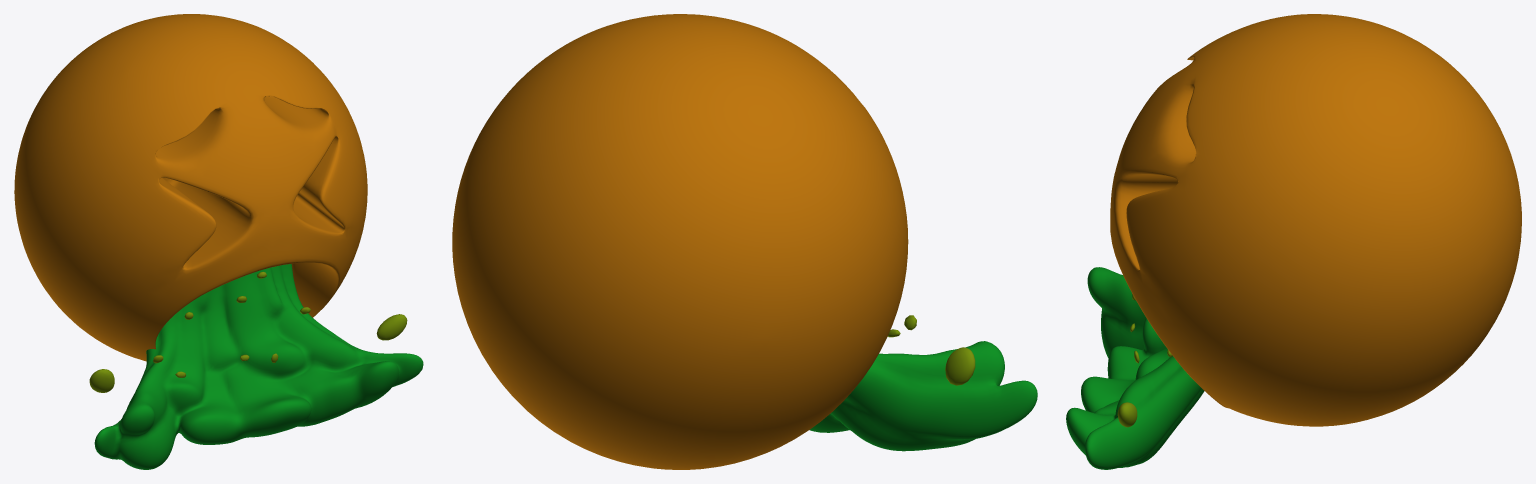
The model's file is vomiting FBX.FBX.
The picture shows the model from 3 angles, left to right: view 1: azimuth 30°, elevation 25°; view 2: azimuth 150°, elevation 25°; view 3: azimuth 270°, elevation 25°; orthographic projection. The views are drawn at different scales.
Parts seen in each view (by area): view 1: vomiting, Vomiting 3, Vomiting 2; view 2: vomiting, Vomiting 3, Vomiting 2; view 3: vomiting, Vomiting 3, Vomiting 2.
Part boxes in pixels (x1,y1,x2,y2): vomiting: [14, 14, 367, 361]; Vomiting 3: [94, 264, 423, 469]; Vomiting 2: [89, 271, 407, 392]; vomiting: [452, 14, 908, 469]; Vomiting 3: [810, 341, 1037, 451]; Vomiting 2: [887, 315, 975, 385]; vomiting: [1110, 14, 1521, 426]; Vomiting 3: [1066, 267, 1204, 469]; Vomiting 2: [1117, 293, 1172, 427].
Bounding box in the file's own units: 20.33 × 20.02 × 20.28.
